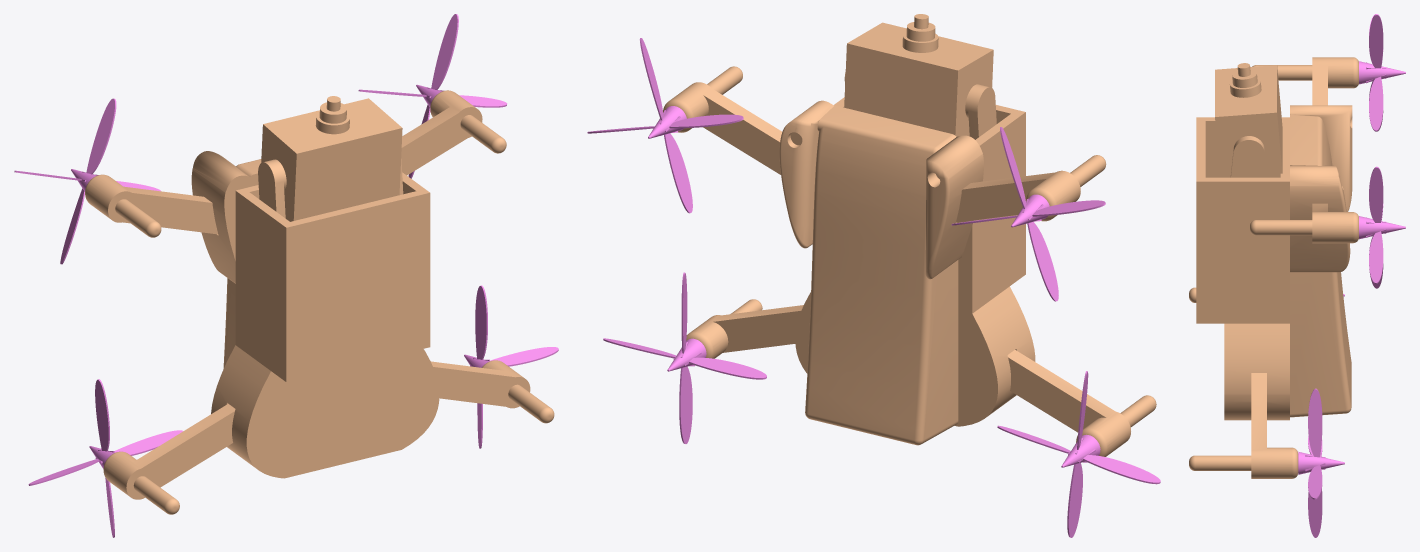
Rendered from FinalDrone.FBX.
3 views of the same model, side by side, from view 1: azimuth 30°, elevation 25°; view 2: azimuth 150°, elevation 25°; view 3: azimuth 270°, elevation 25° (orthographic). The views are drawn at different scales.
Parts seen in each view (by area): view 1: 无人机, 对象003, 对象001, 对象004, 对象002; view 2: 无人机, 对象004, 对象003, 对象002, 对象001; view 3: 无人机, 对象004, 对象002, 对象001.
Part boxes in pixels (x1,y1,x2,y2): 无人机: (85, 90, 554, 514); 对象003: (28, 379, 182, 537); 对象001: (14, 98, 160, 264); 对象004: (464, 285, 558, 448); 对象002: (358, 14, 507, 178); 无人机: (663, 14, 1156, 456); 对象004: (603, 272, 766, 443); 对象003: (997, 371, 1160, 537); 对象002: (587, 38, 743, 213); 对象001: (951, 127, 1105, 301); 无人机: (1189, 57, 1358, 478); 对象004: (1298, 388, 1344, 537); 对象002: (1359, 166, 1405, 288); 对象001: (1359, 14, 1405, 131).
Bounding box in the file's own units: 180 × 138 × 69.54.
